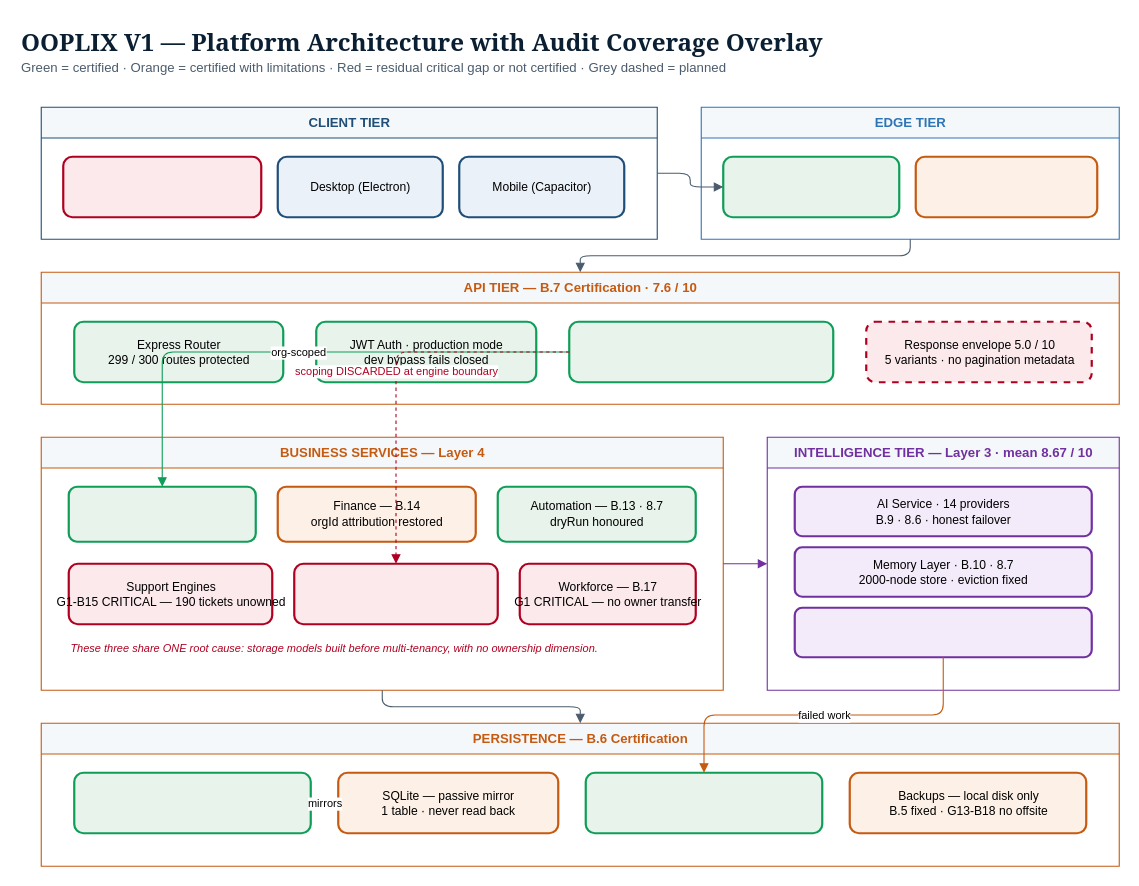
Image size: 1139x886. Some labels were removed from this diagram. Here are the shapes that lost their labels. From the top down, the centre of each, then its label:
At (162,186): "Web App (React) B.19 · WCAG 2.2 AA NOT CERTIFIED".
At (811,186): "nginx · TLS 1.3 · HTTP/2 B.4 CERTIFIED".
At (1006,186): "PM2 · fork · instances:1 B.8 · heap 1024MB / ceil 1536".
At (701,351): "attachOrg middleware B.7 F1 — X-Org-Id confused deputy FIXED".
At (161,513): "CRM — org-scoped B.16 CERTIFIED".
At (395,593): "Customer Engines (x5) G1-B16 CRITICAL — zero orgId".
At (942,632): "Agent Runtime · 210 agents · B.11 · 8.7 admission gate 68.6% → 0%".
At (192,802): "JSON Stores — authoritative 3438 files · 677 MB · 0 corrupted".
At (703,802): "Dead-Letter Queue · 1000 cap B.18 · agentId restored 980/980".
